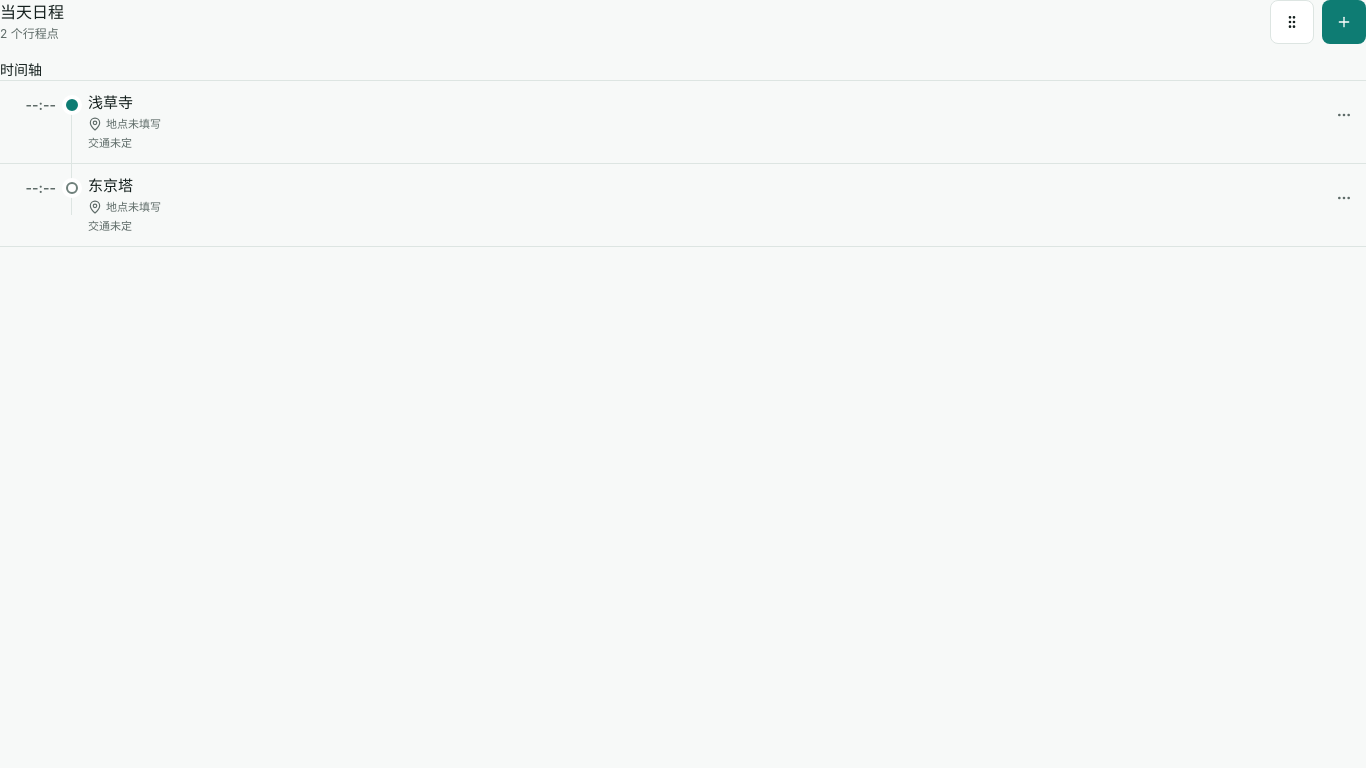
Test case: DayTimelineView › keeps related records and exposes a compact undo after deletion
What coordinates should you click on to do the following:
click the button named "浅草寺更多操作"
I would click on:
 (1344, 115)
Its box is [1322,93,1365,137].
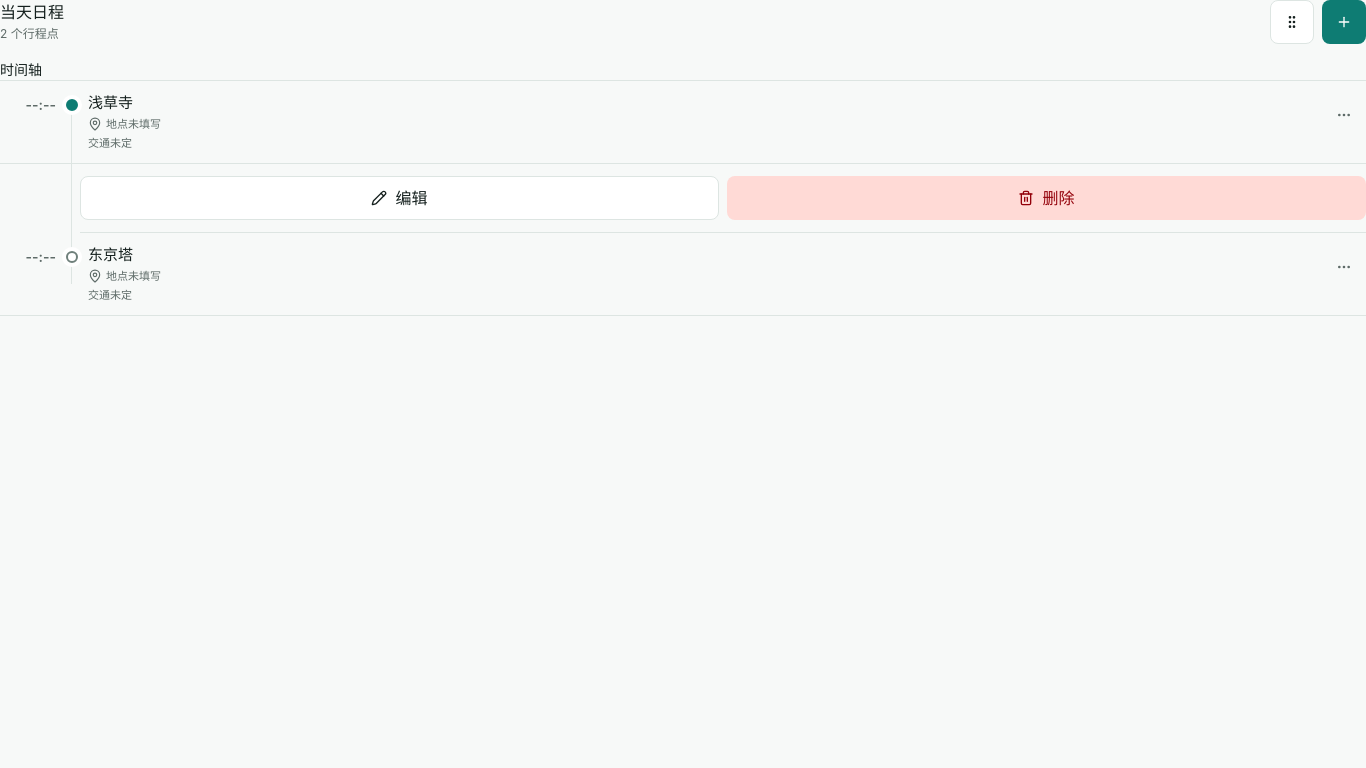
What coordinates should you click on to do the following:
click the button "删除"
I would click on:
 (1046, 198)
Its box is [727,176,1365,220].
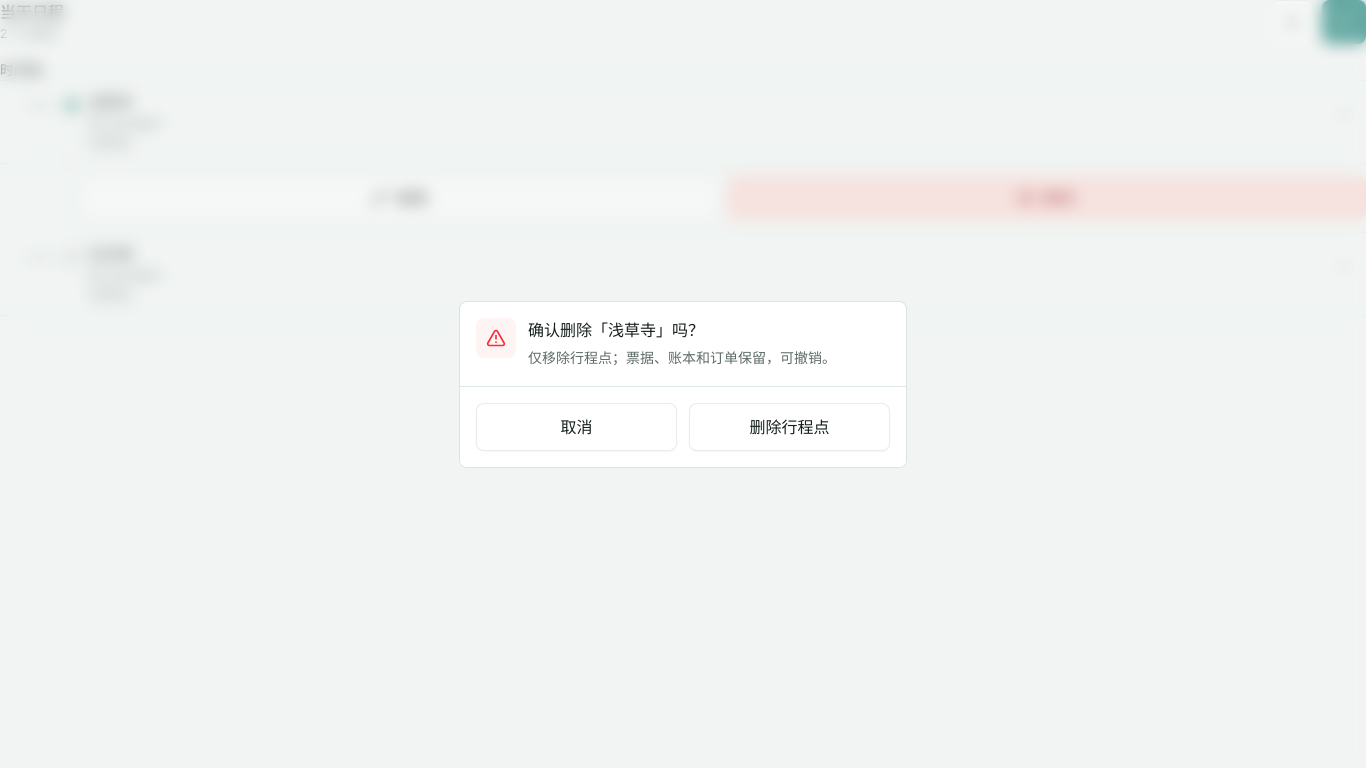
expect the dialog shows "票据、账本和订单保留，可撤销": met, box [528,348,836,366]
What coordinates should you click on to do the following:
click the button "删除行程点"
I would click on:
 (790, 426)
Its box is [689,402,890,450].
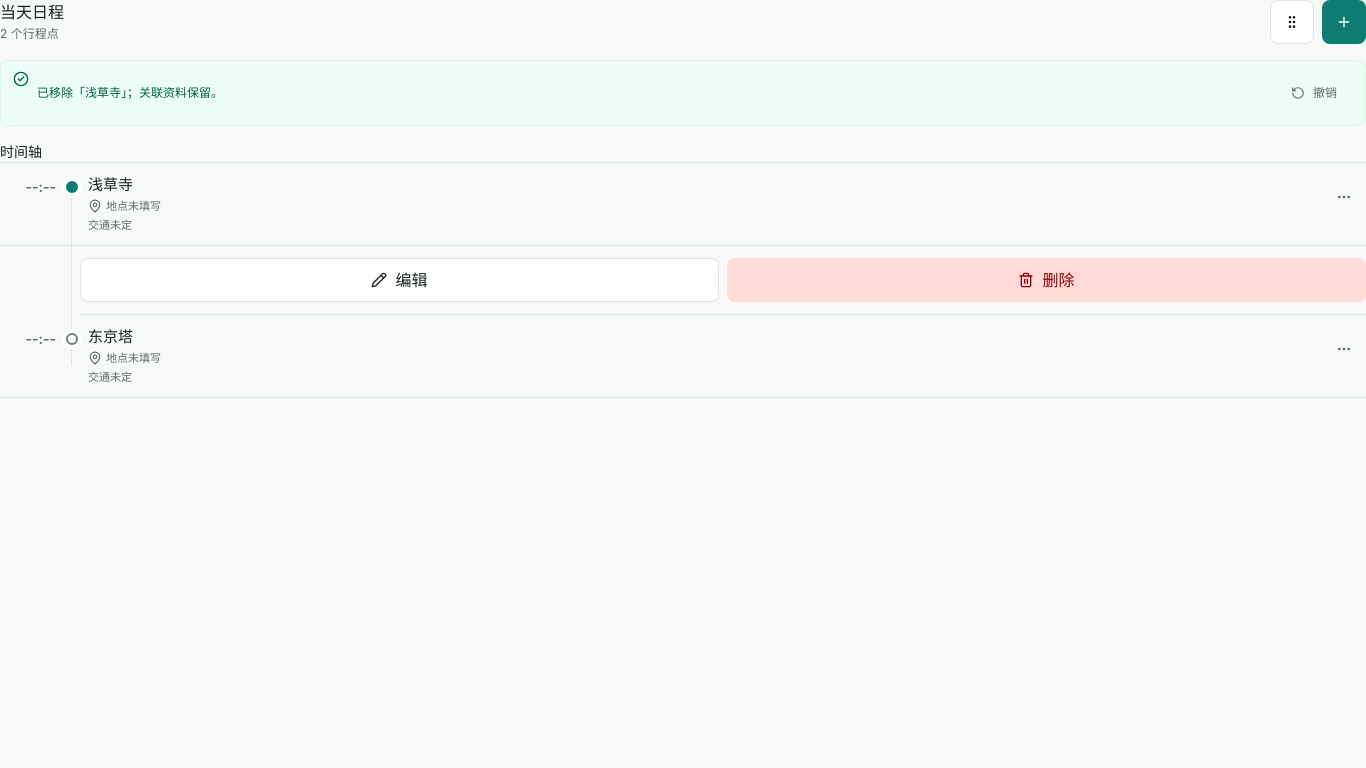
expect the text "关联资料保留" is shown: met, box [121,85,223,100]
What coordinates should you click on to do the following:
click the button with aria-label "撤销删除浅草寺"
I would click on:
 (1314, 93)
Its box is [1275,69,1353,117].
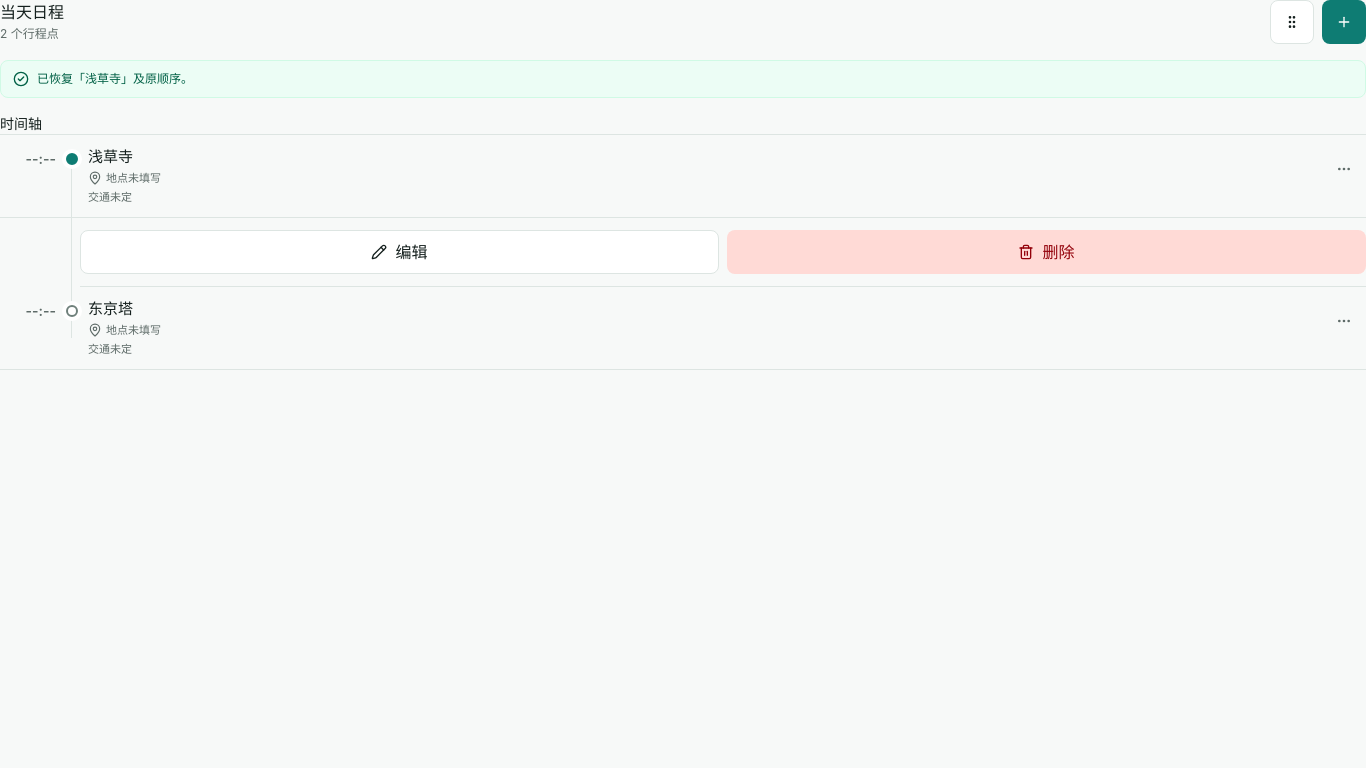
expect the text "已恢复「浅草寺」及原顺序" is shown: met, box [37,71,193,86]
